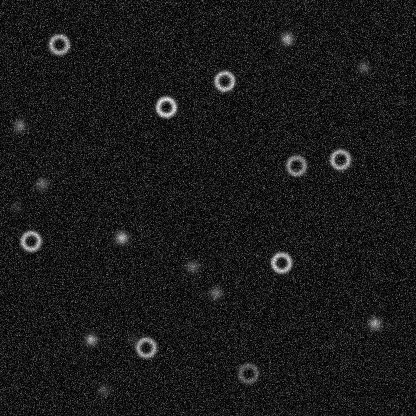Ring: (328, 147, 352, 171), (133, 335, 157, 359), (153, 94, 177, 118), (46, 32, 70, 56), (236, 361, 260, 385), (212, 68, 236, 92), (18, 228, 42, 252), (269, 250, 293, 274), (284, 153, 308, 177)
Spot: (355, 59, 371, 75), (82, 331, 98, 347), (366, 315, 382, 331), (7, 199, 23, 215), (184, 258, 200, 274), (207, 284, 223, 300), (278, 30, 294, 46), (33, 175, 49, 191), (124, 331, 140, 347), (113, 229, 129, 245), (11, 117, 27, 133), (95, 382, 111, 398)
